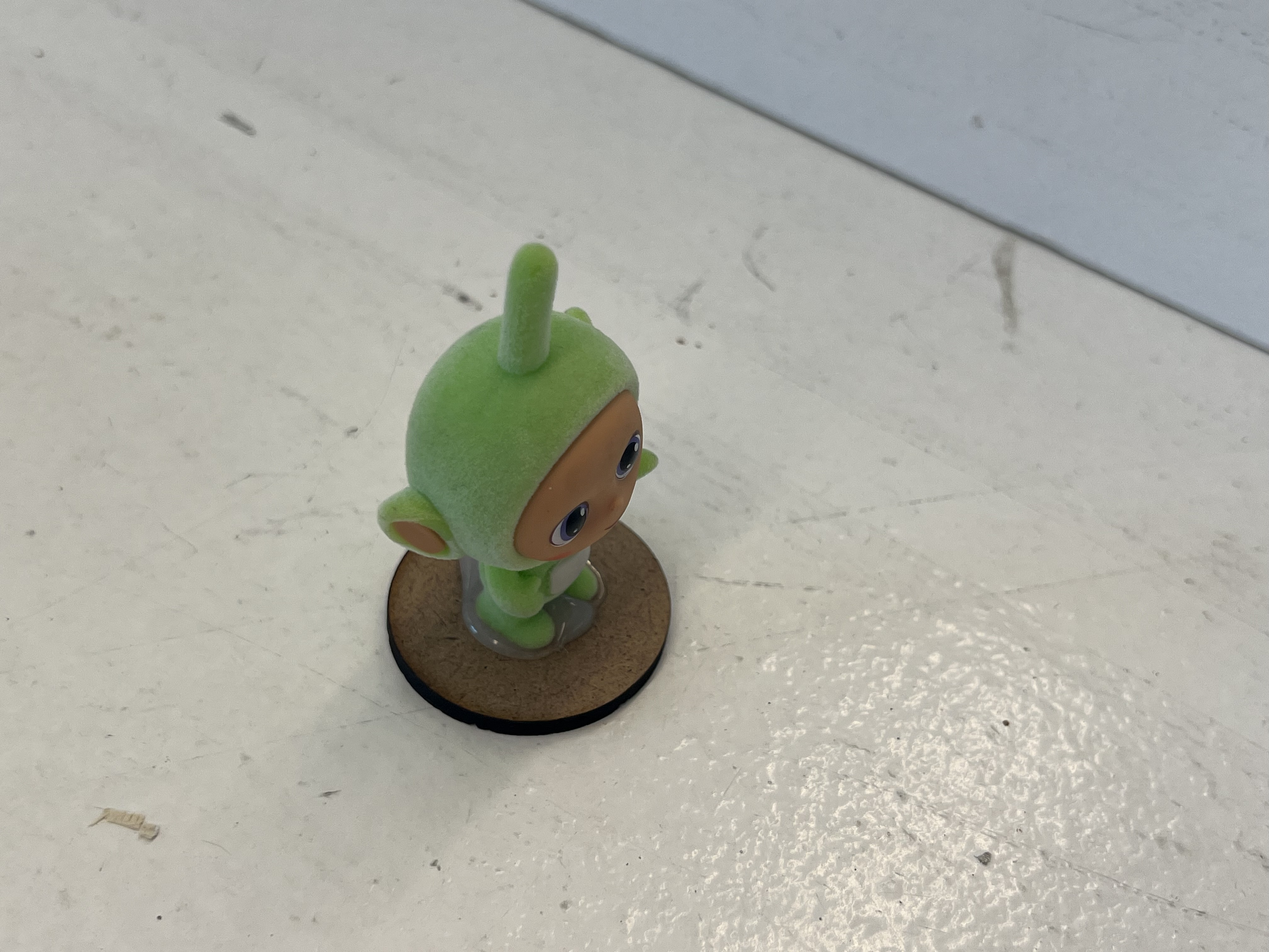teletubby: (378, 244, 656, 650)
